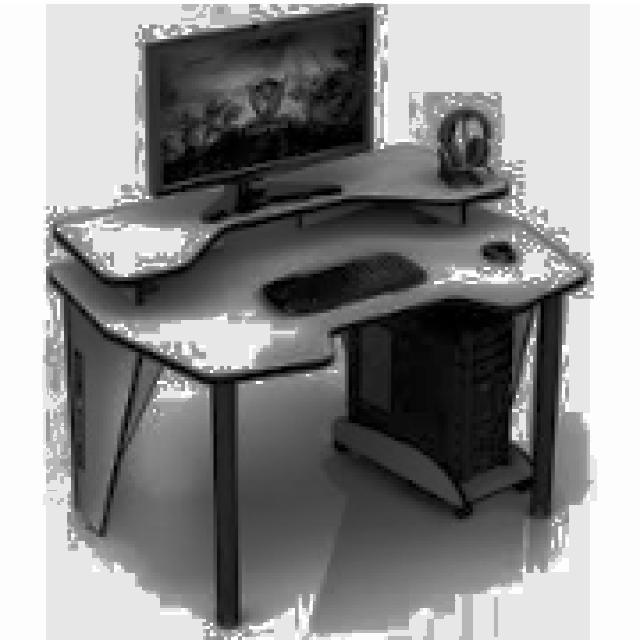table: (42, 142, 586, 626)
